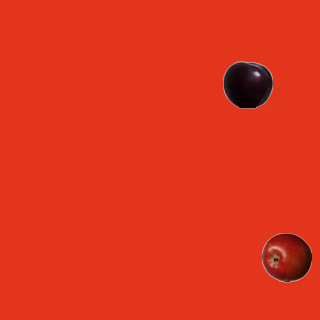Apple Braeburn: (261, 232, 311, 282)
Cherry Wax Black: (222, 59, 272, 109)
